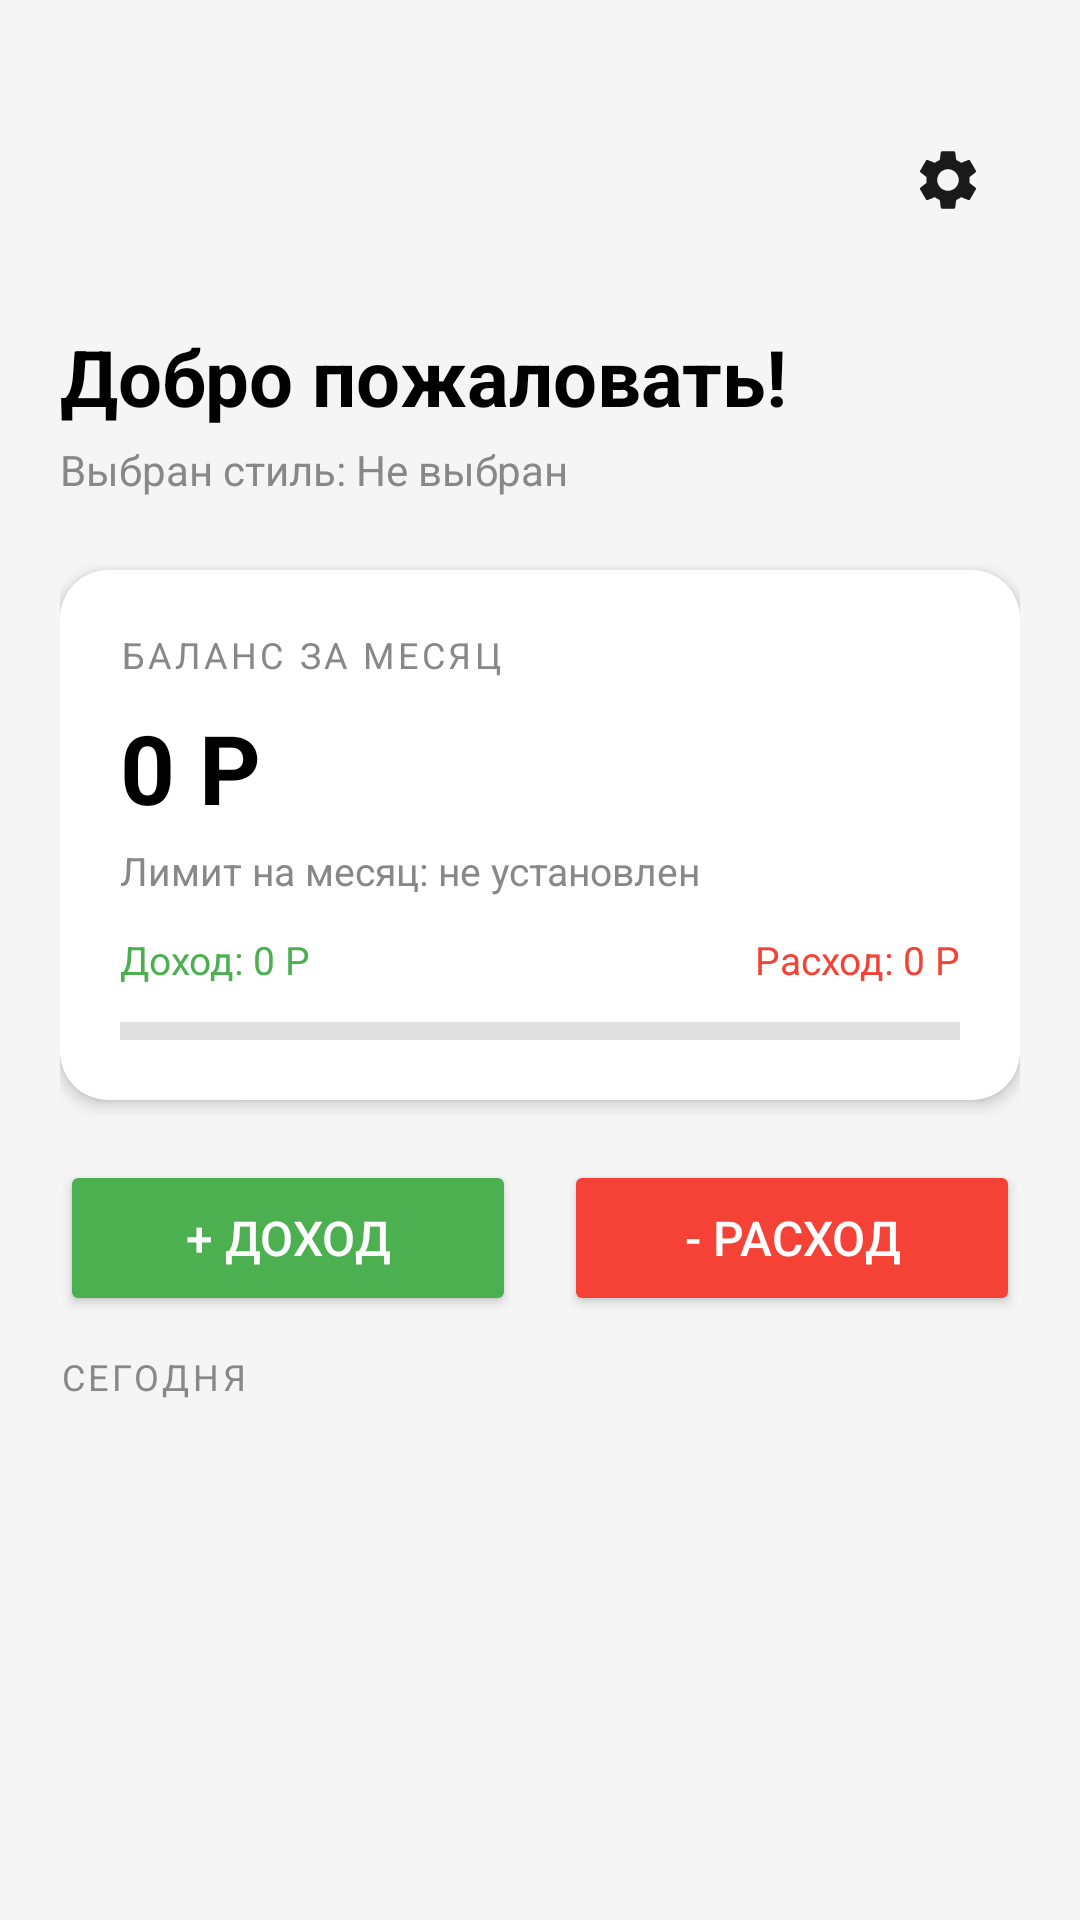

Icon bounding boxes for this 1080x1920 phone screenshot, format (x1, y1, x2, y2):
Настройки: (920, 151, 976, 209)
